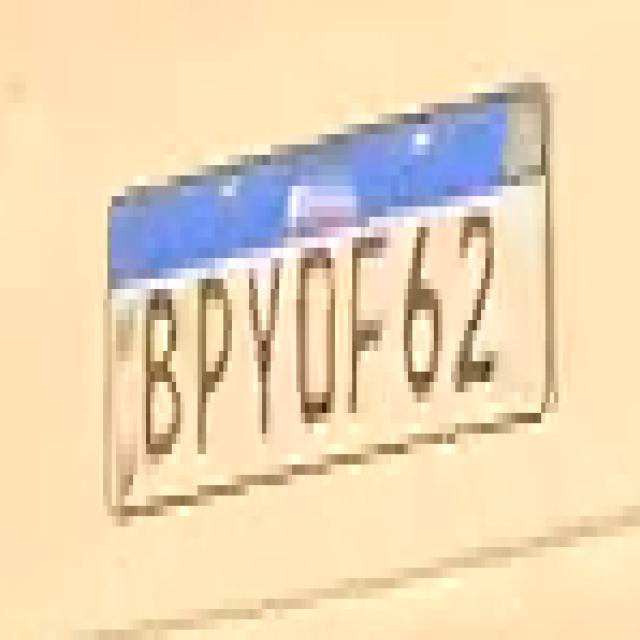Placa_mercosul_carro: (103, 77, 555, 527)
